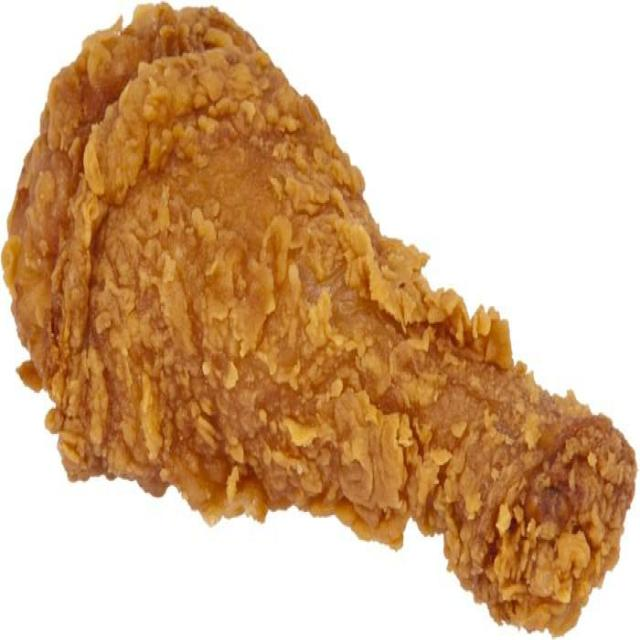Frango: (1, 3, 640, 640)
